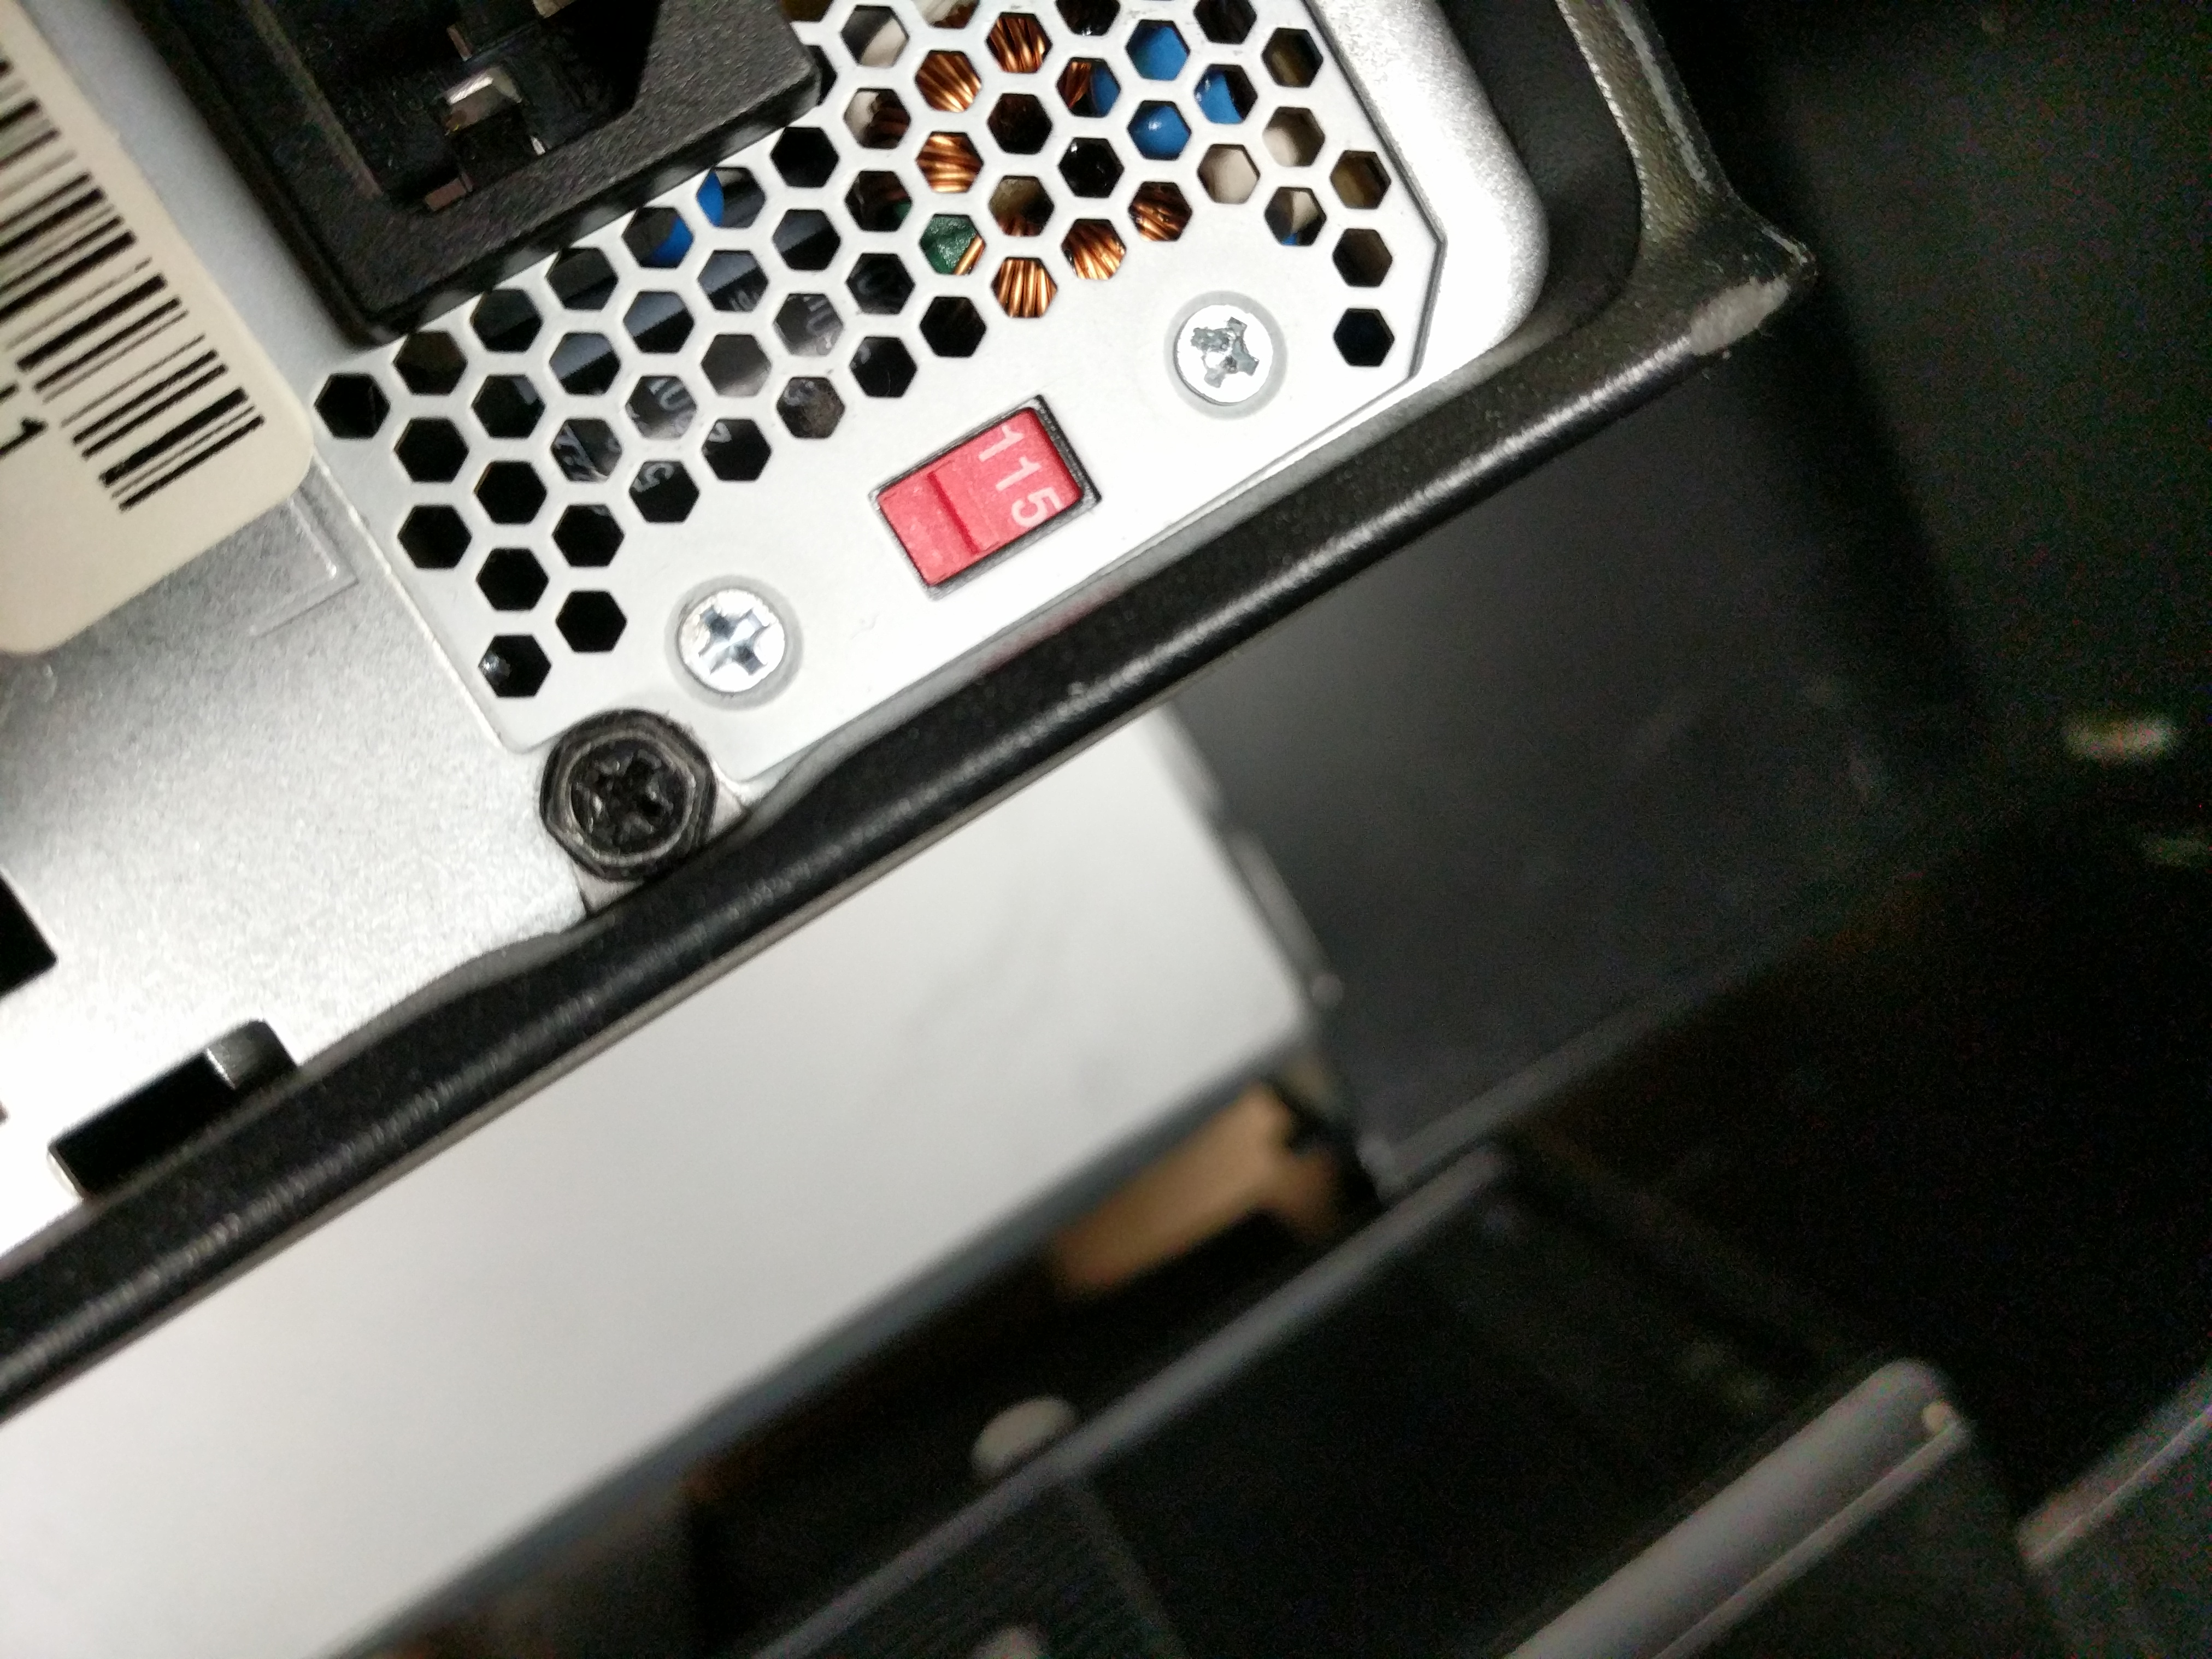cross_recessed_screw: (545, 734, 702, 864), (664, 575, 801, 695), (1162, 284, 1289, 410)
